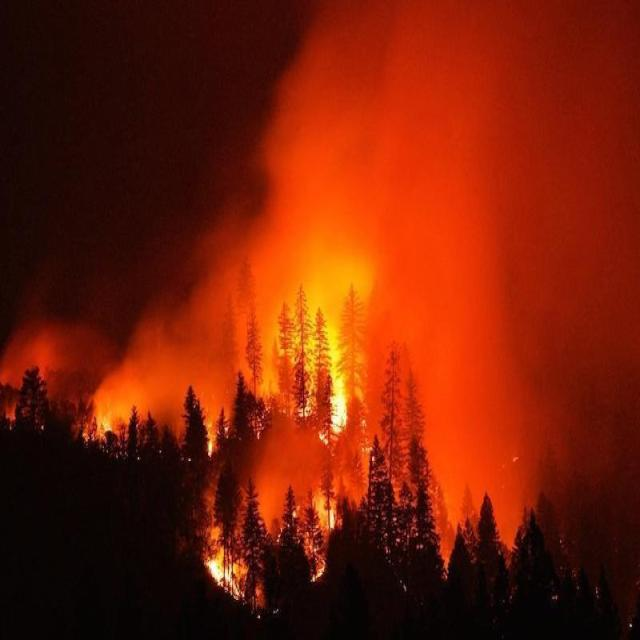fire: (172, 281, 379, 603), (62, 375, 138, 455)
smoke: (81, 4, 623, 500)
